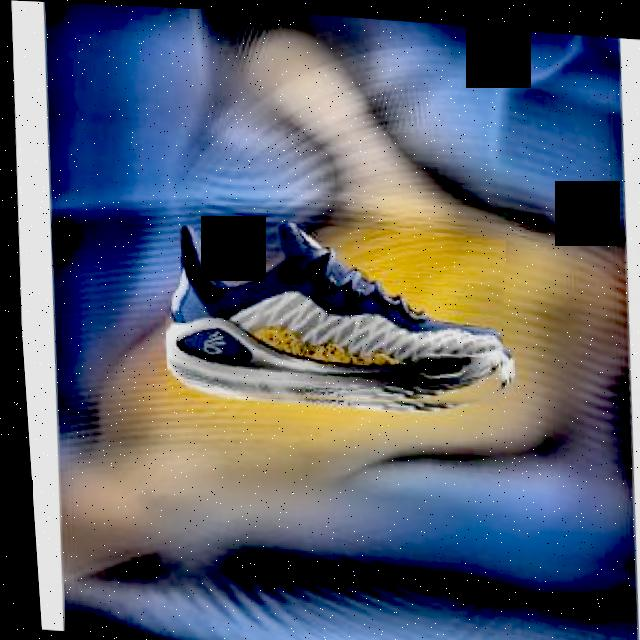shoe: (152, 211, 512, 417)
